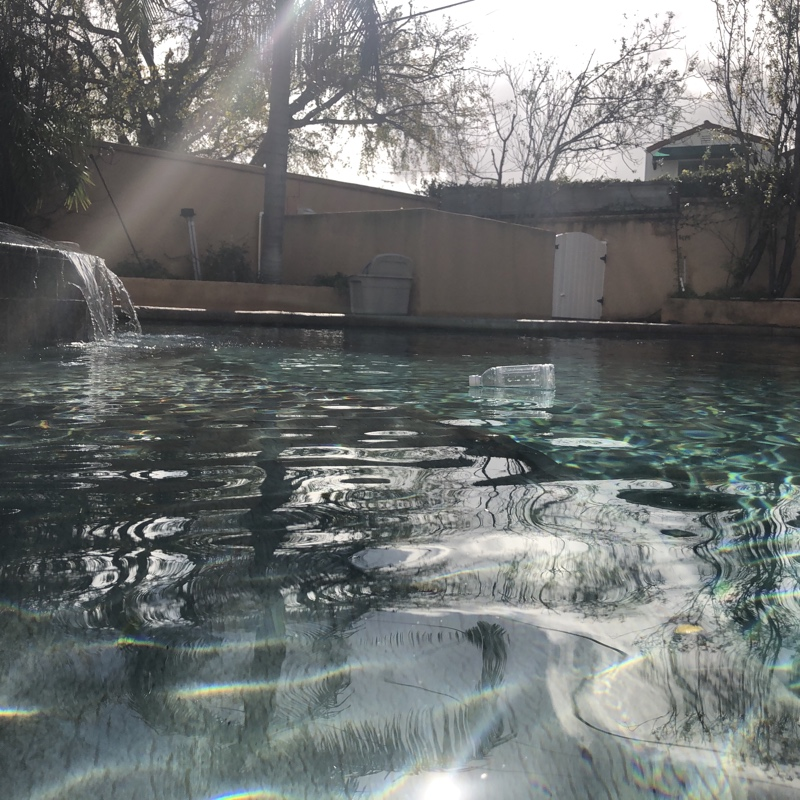Plastic Bottle: (464, 357, 558, 395)
